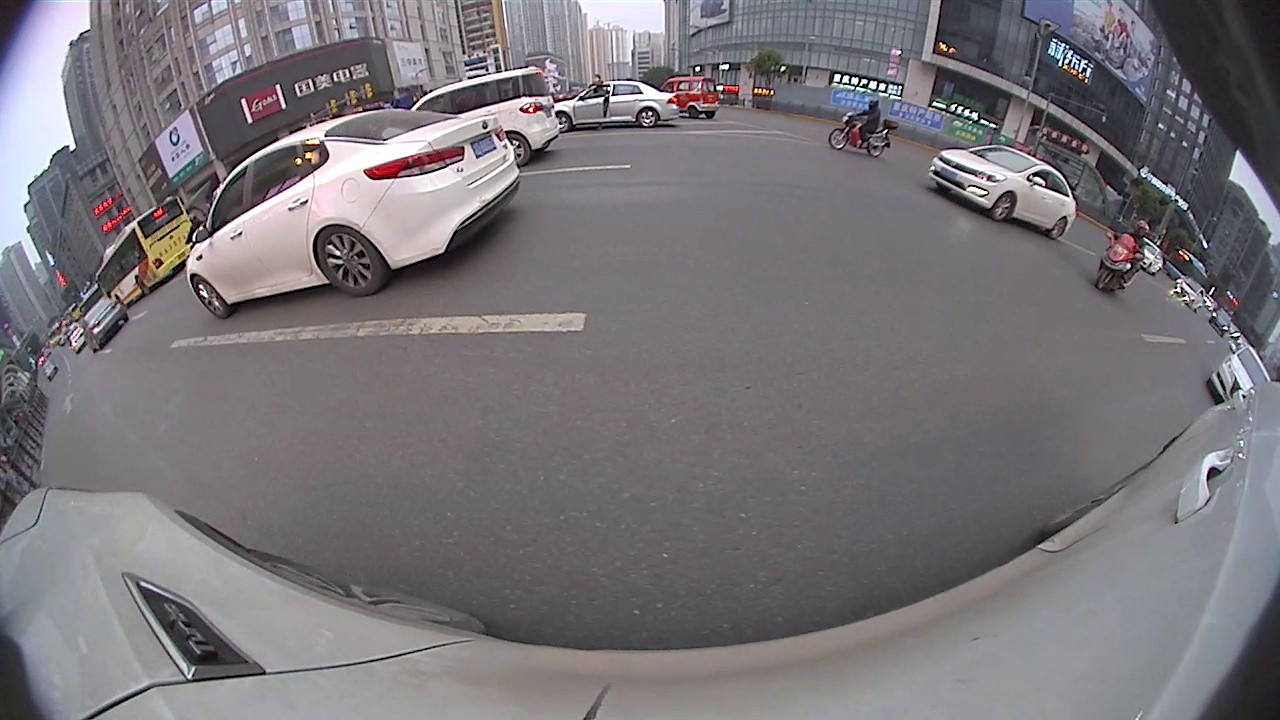bus: (96, 193, 203, 314)
car: (186, 102, 518, 324), (401, 66, 561, 172), (929, 144, 1079, 240), (546, 80, 681, 142), (1207, 344, 1276, 416), (81, 290, 128, 352)
front: (189, 273, 233, 321), (990, 191, 1016, 225), (827, 127, 849, 151), (554, 110, 572, 135)
rear: (315, 225, 391, 300), (503, 130, 533, 169), (1045, 217, 1069, 242), (636, 107, 660, 129), (866, 142, 886, 159)
rider: (830, 100, 898, 158), (1097, 220, 1148, 297), (657, 76, 722, 120)
